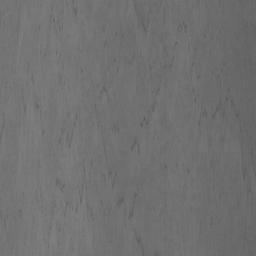Silk spot: (0, 0, 256, 256), (0, 63, 42, 144), (200, 186, 239, 233)
